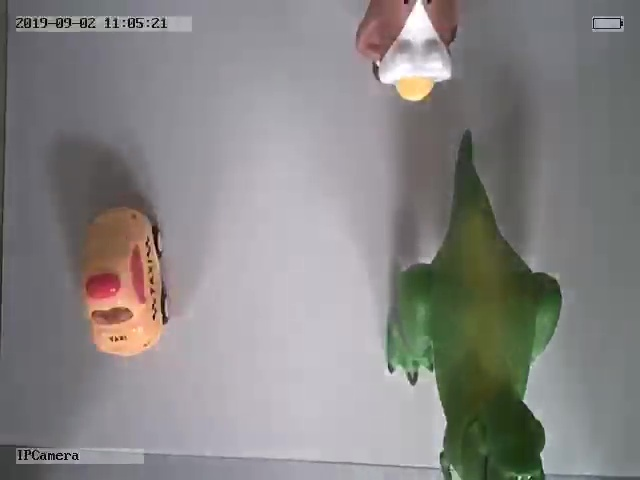car: (78, 206, 172, 356)
